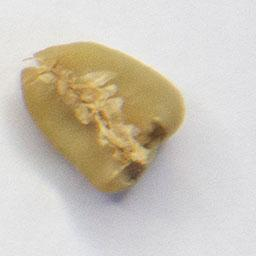defect: (18, 39, 187, 198)
